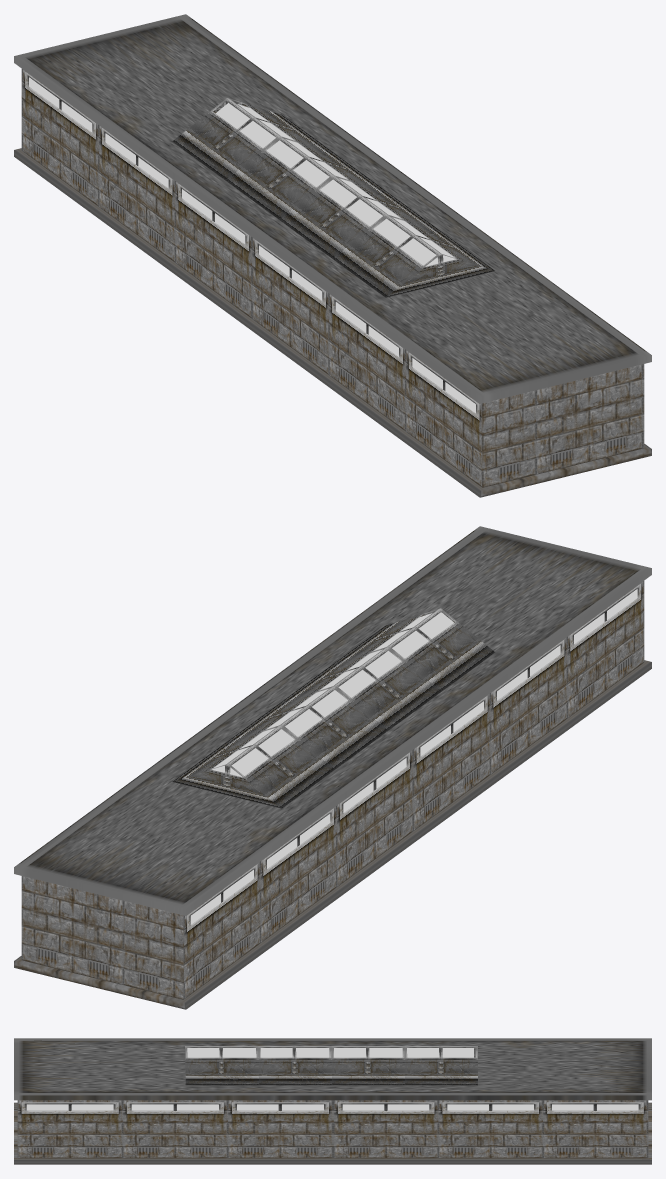
Rendered from s_admin_wing.glb.
The picture shows the model from 3 angles, top to bottom: view 1: azimuth 30°, elevation 25°; view 2: azimuth 150°, elevation 25°; view 3: azimuth 270°, elevation 25°; orthographic projection. The views are drawn at different scales.
Visible parts, largest first — view 1: S_admin_wing, Litwin_S_admin_wing; view 2: S_admin_wing, Litwin_S_admin_wing; view 3: S_admin_wing, Litwin_S_admin_wing.
Part boxes in pixels (left/top/right/bottom): S_admin_wing: left=14, top=14, right=651, bottom=497; Litwin_S_admin_wing: left=29, top=77, right=475, bottom=413; S_admin_wing: left=14, top=526, right=651, bottom=1009; Litwin_S_admin_wing: left=190, top=589, right=637, bottom=924; S_admin_wing: left=14, top=1038, right=651, bottom=1164; Litwin_S_admin_wing: left=26, top=1048, right=638, bottom=1110.
Bounding box in the file's own units: 11.39 × 8.29 × 53.45.
4 materials, 4 textured.
